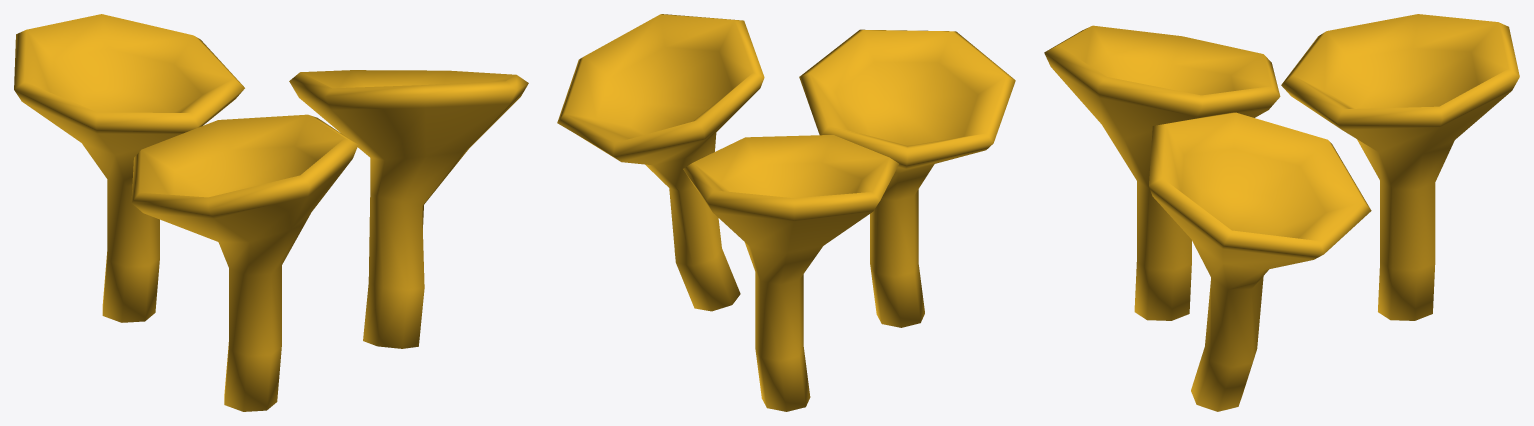
Rendered from FolsChanterellesMushroom.fbx.
The picture shows the model from 3 angles, left to right: view 1: azimuth 30°, elevation 25°; view 2: azimuth 150°, elevation 25°; view 3: azimuth 270°, elevation 25°; orthographic projection. The views are drawn at different scales.
Parts seen in each view (by area): view 1: Cylinder.009; view 2: Cylinder.009; view 3: Cylinder.009.
Boxes of the visible parts, <box> form: Cylinder.009: <box>14,14,528,411</box>; Cylinder.009: <box>557,14,1015,411</box>; Cylinder.009: <box>1044,14,1519,411</box>.
Bounding box in the file's own units: 36.22 × 23.15 × 35.67.
